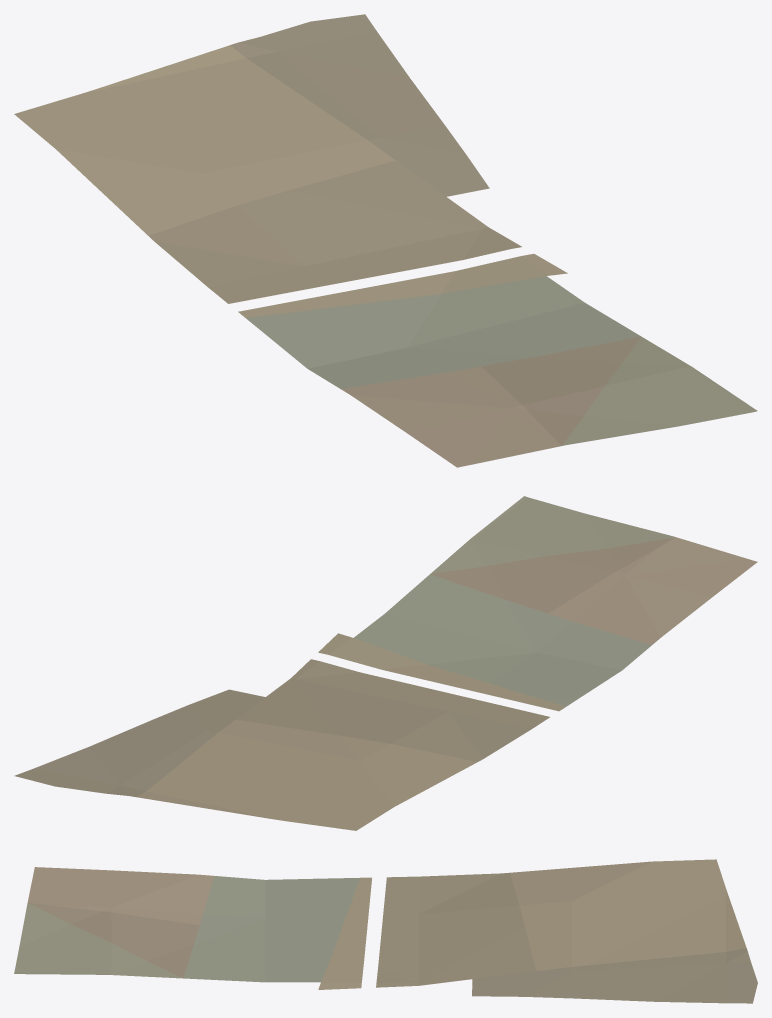
Rendered from farm_13_5_soil.glb.
3 views of the same model, one above another, from view 1: azimuth 30°, elevation 25°; view 2: azimuth 150°, elevation 25°; view 3: azimuth 270°, elevation 25° (orthographic). The views are drawn at different scales.
Parts seen in each view (by area): view 1: geometry_0; view 2: geometry_0; view 3: geometry_0.
Boxes of the visible parts, left/top/right/bottom form: geometry_0: left=14, top=14, right=757, bottom=467; geometry_0: left=14, top=496, right=757, bottom=830; geometry_0: left=14, top=859, right=757, bottom=1003.
Bounding box in the file's own units: 175 × 14.96 × 387.
